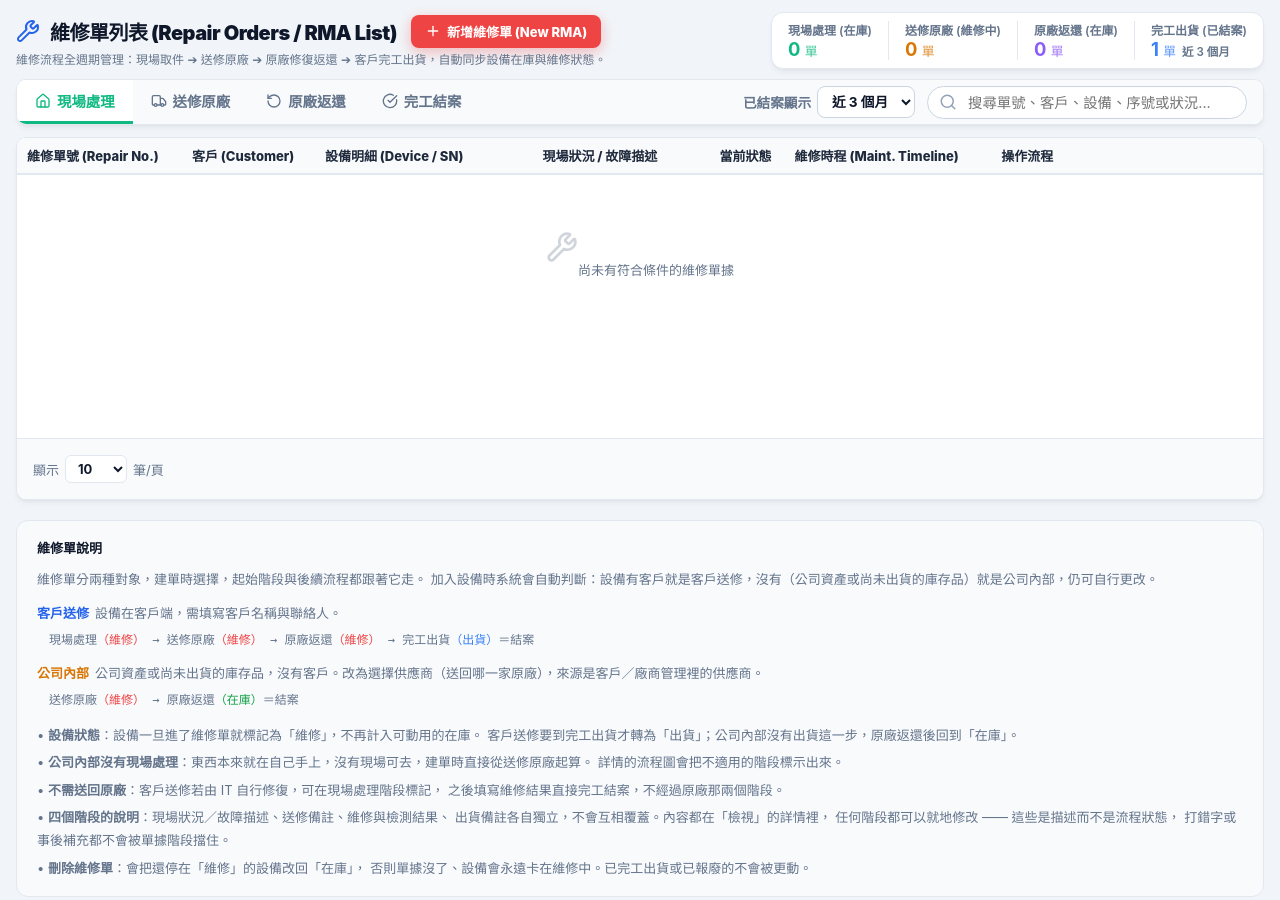
Scenario: 維修單列表的欄位 › 右上角依處理流程顯示數量，沒有累積的總維修單數
Expected: the text with test id "stat-3" reads "1", left=1151, top=38, right=1159, bottom=60
Click the button with test id "repair-tab-COMPLETED". click: (422, 102)
box: left=364, top=80, right=479, bottom=124
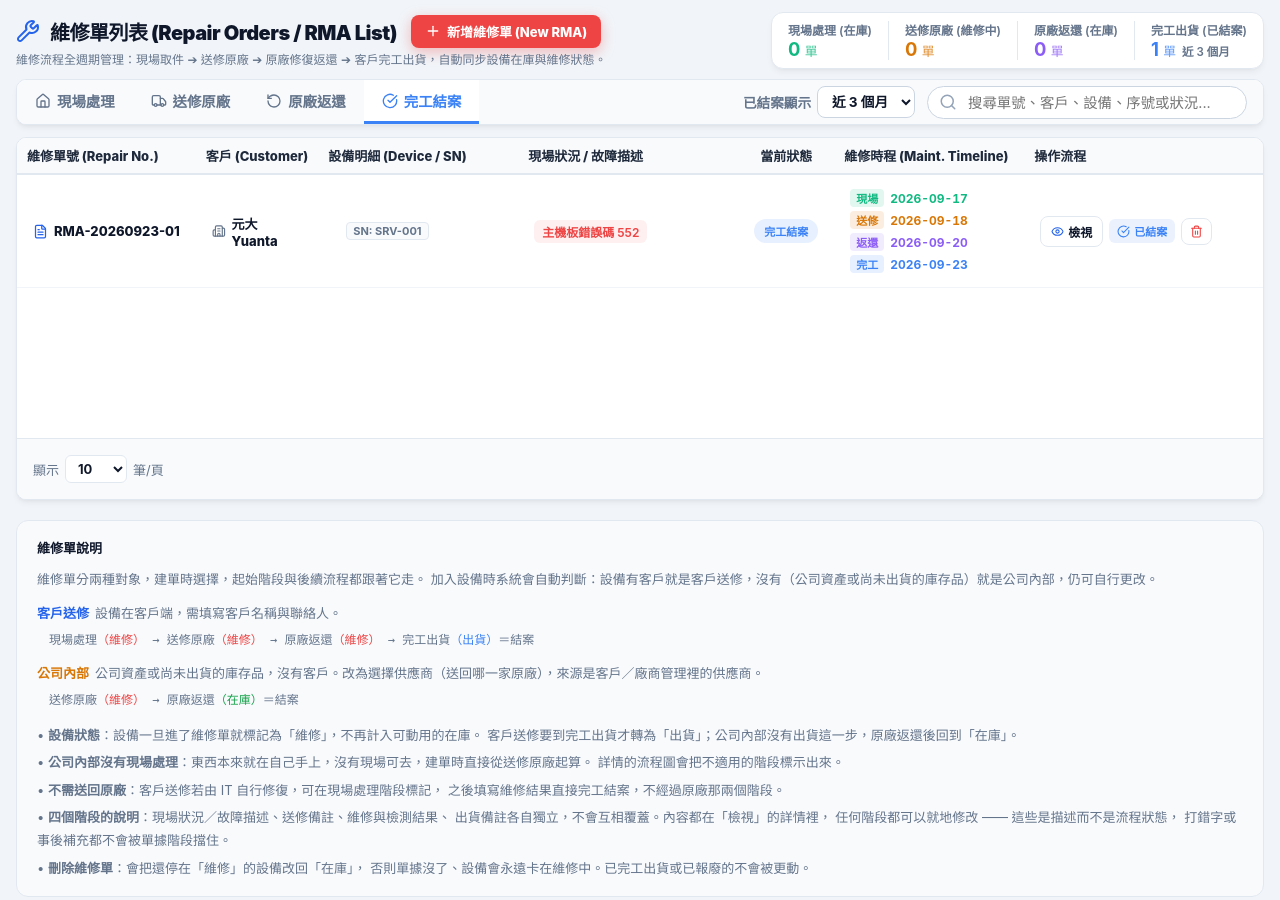
Now the text "RMA-20260923-01" is shown, box left=54, top=223, right=180, bottom=239
